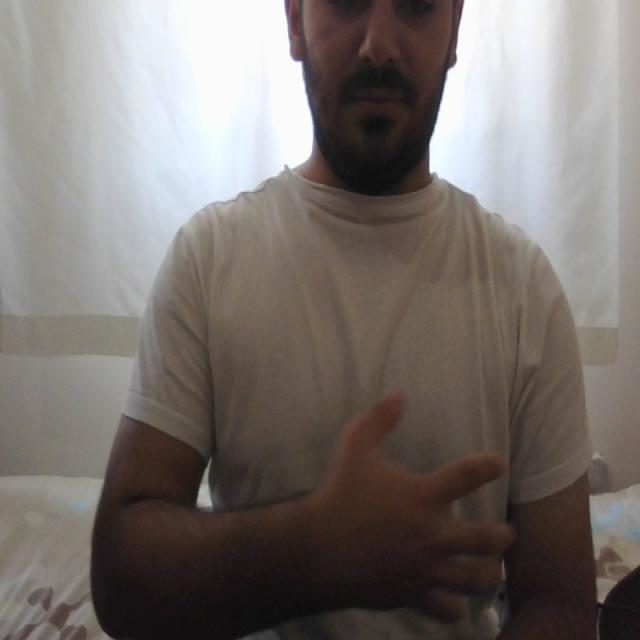Anne: (208, 357, 529, 640)
